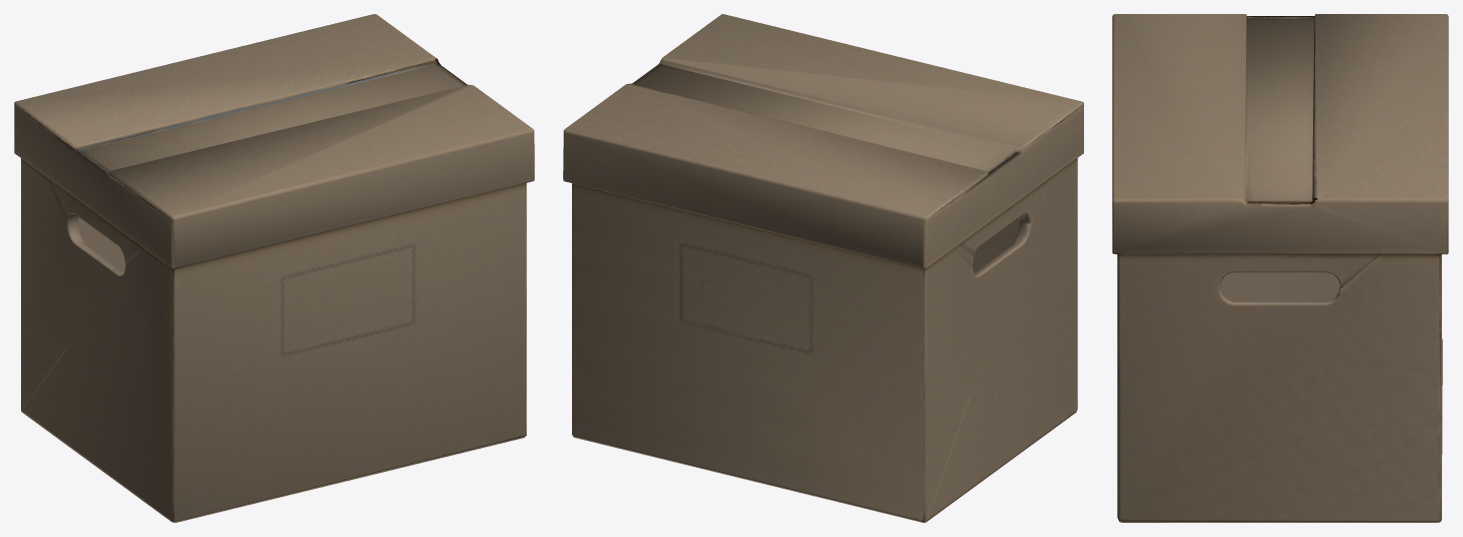
Rendered from ENV_Box_A_v001.fbx.
3 views of the same model, side by side, from view 1: azimuth 30°, elevation 25°; view 2: azimuth 150°, elevation 25°; view 3: azimuth 270°, elevation 25° (orthographic). The views are drawn at different scales.
Visible parts, largest first — view 1: tripo_node_088674ed-9bac-4768-a759-50ae56fc4389; view 2: tripo_node_088674ed-9bac-4768-a759-50ae56fc4389; view 3: tripo_node_088674ed-9bac-4768-a759-50ae56fc4389.
Boxes of the visible parts, box(x1,y1,x2,y2) form: tripo_node_088674ed-9bac-4768-a759-50ae56fc4389: box(14, 14, 534, 522); tripo_node_088674ed-9bac-4768-a759-50ae56fc4389: box(563, 14, 1083, 522); tripo_node_088674ed-9bac-4768-a759-50ae56fc4389: box(1112, 14, 1448, 522).
Bounding box in the file's own units: 99.8 × 81.45 × 75.98.
1 material, 1 textured.
